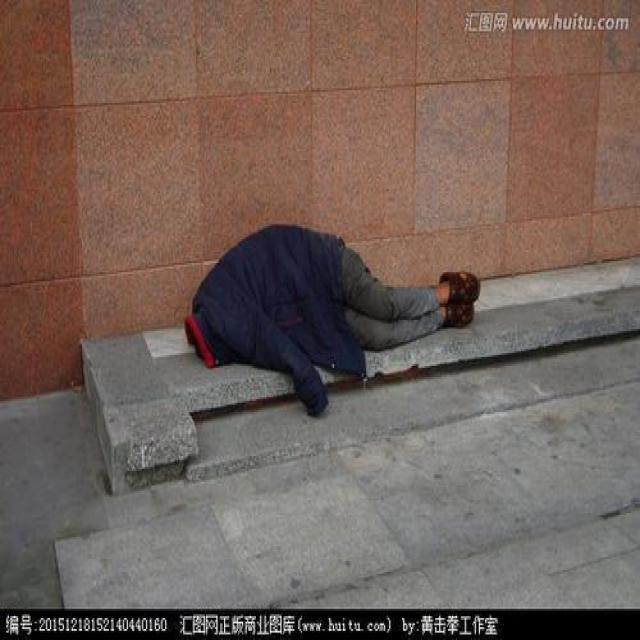fall: (174, 208, 481, 417)
